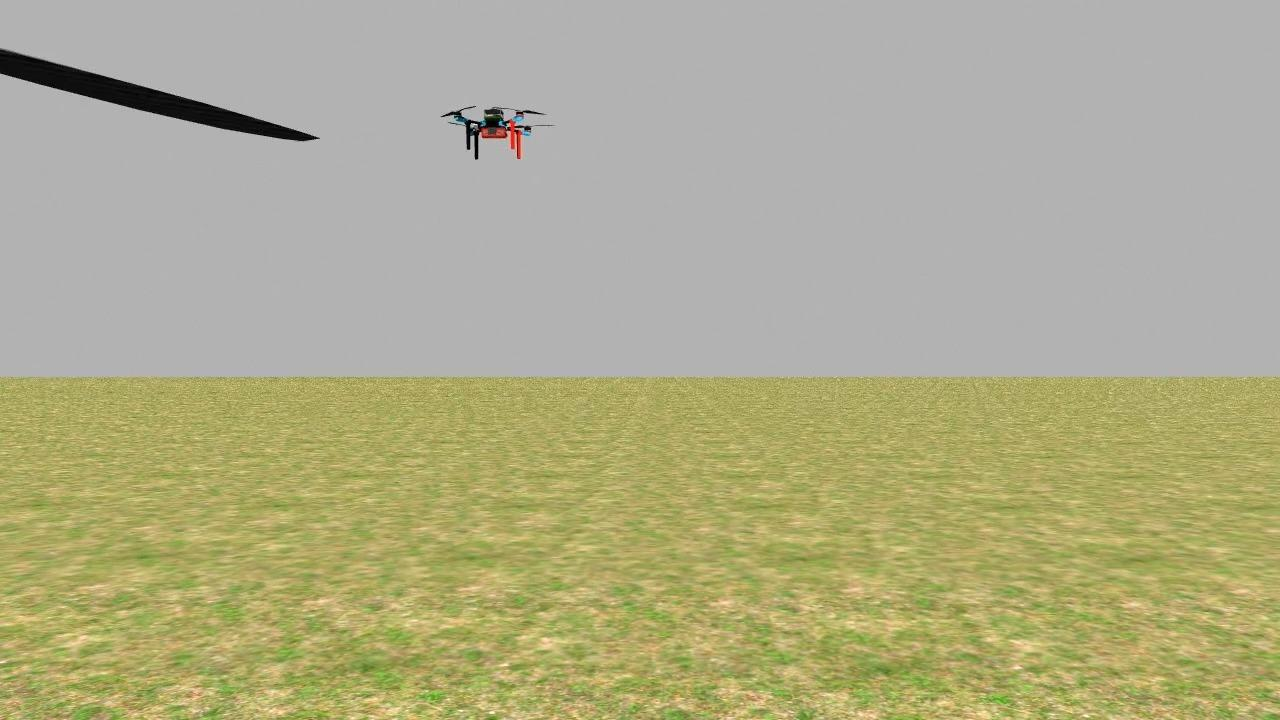UAV: (418, 77, 564, 168)
